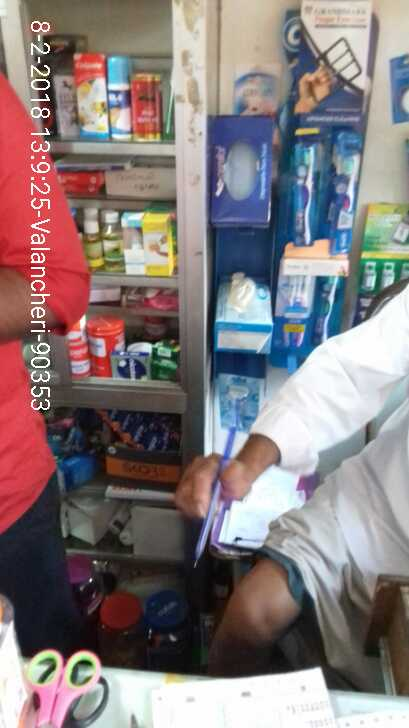oralb: (288, 134, 325, 251), (329, 140, 364, 258), (273, 269, 308, 361)
